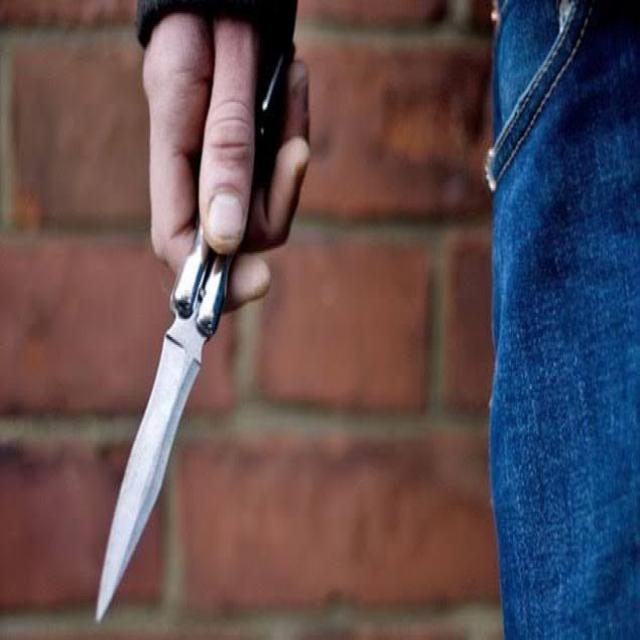knife: (95, 236, 230, 624)
